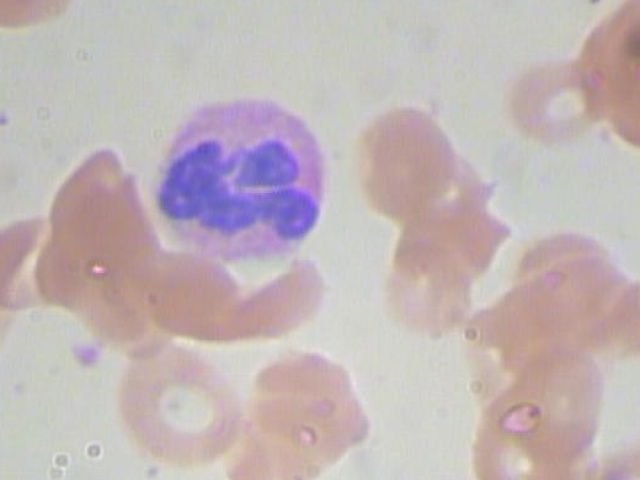Platelets: (65, 333, 106, 379)
RBC: (95, 328, 245, 468), (357, 206, 503, 346), (498, 215, 640, 356), (229, 340, 373, 478), (344, 83, 462, 228), (27, 130, 145, 275), (499, 335, 615, 470), (471, 376, 586, 480), (497, 55, 623, 148), (589, 29, 640, 155)
WBC: (131, 87, 353, 278)
